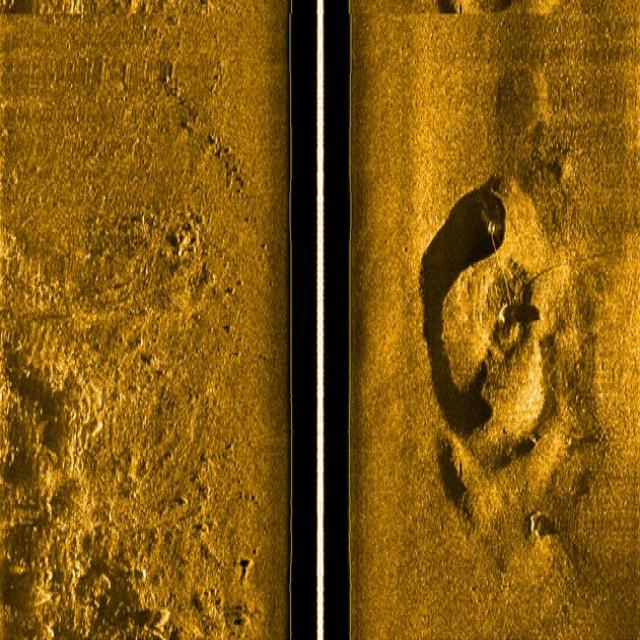other: (419, 159, 571, 524), (149, 199, 212, 292)
